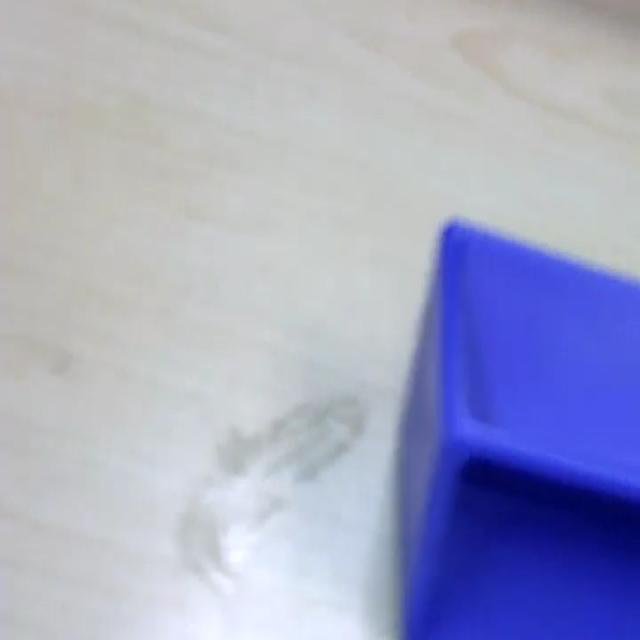blue_block: (394, 213, 638, 636)
